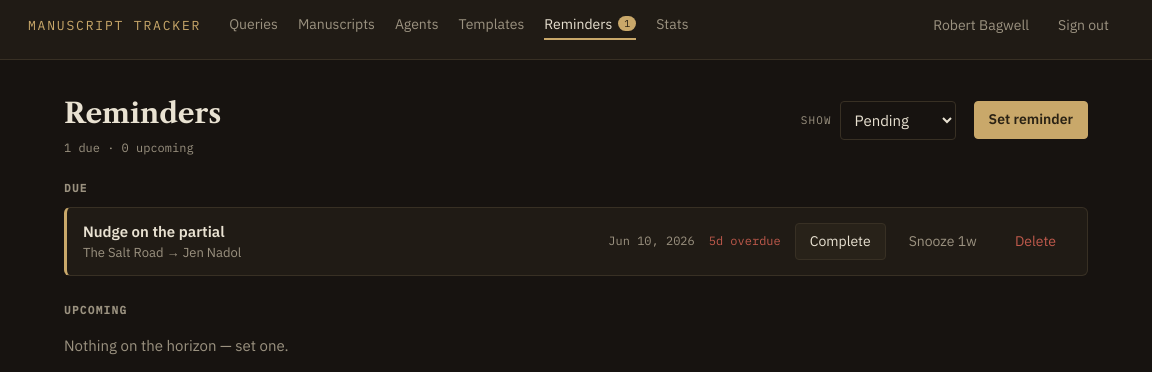
Test: RemindersPage › switches to completed reminders
Expected: the text "1 due · 0 upcoming" is shown, [64, 140, 194, 155]
Select "Completed" in the dropdown labelled "Show" at [898, 120], box [840, 101, 956, 140]
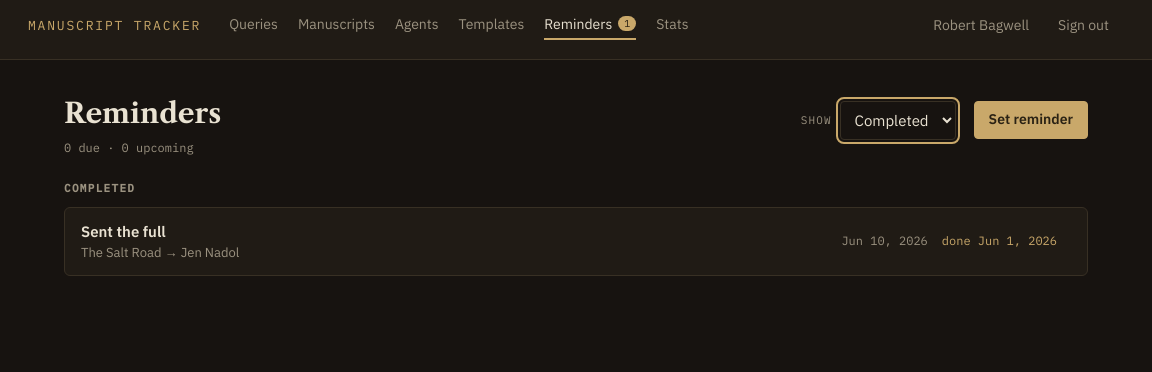
Result: the text "done Jun 1, 2026" is shown at [942, 232, 1057, 251]
